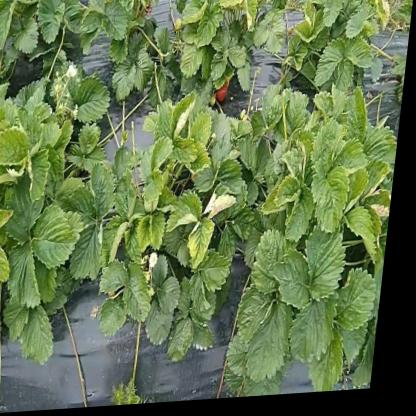ripe: (219, 87, 232, 105)
unripe: (173, 19, 184, 39), (212, 100, 218, 110)
